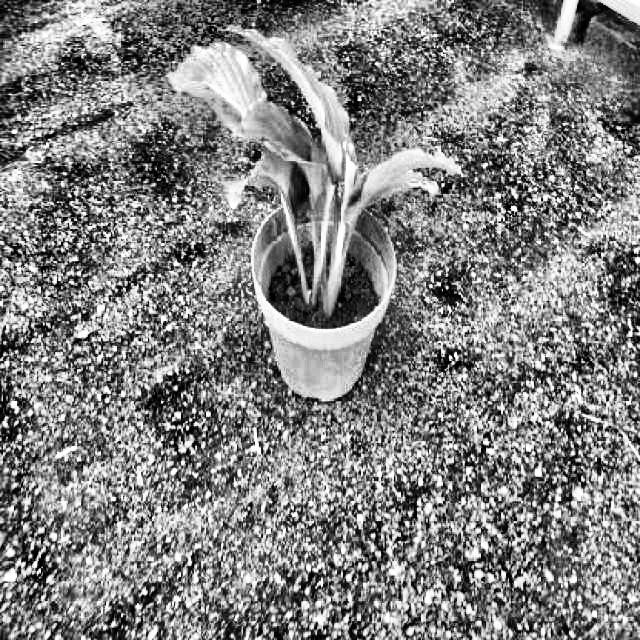plants: (166, 23, 465, 316)
